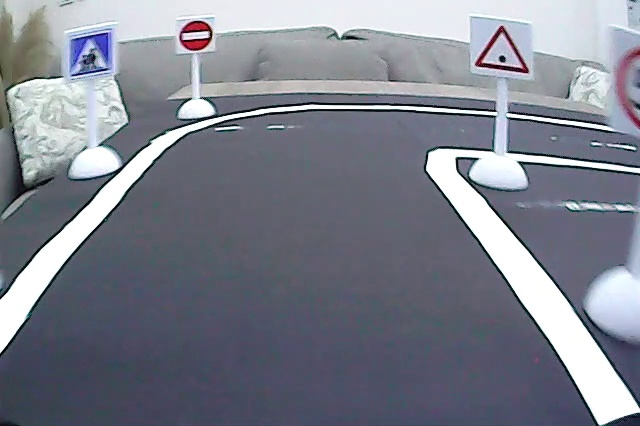do not enter: (179, 18, 215, 53)
green light: (470, 21, 533, 78)
school crossing: (67, 29, 115, 80)
